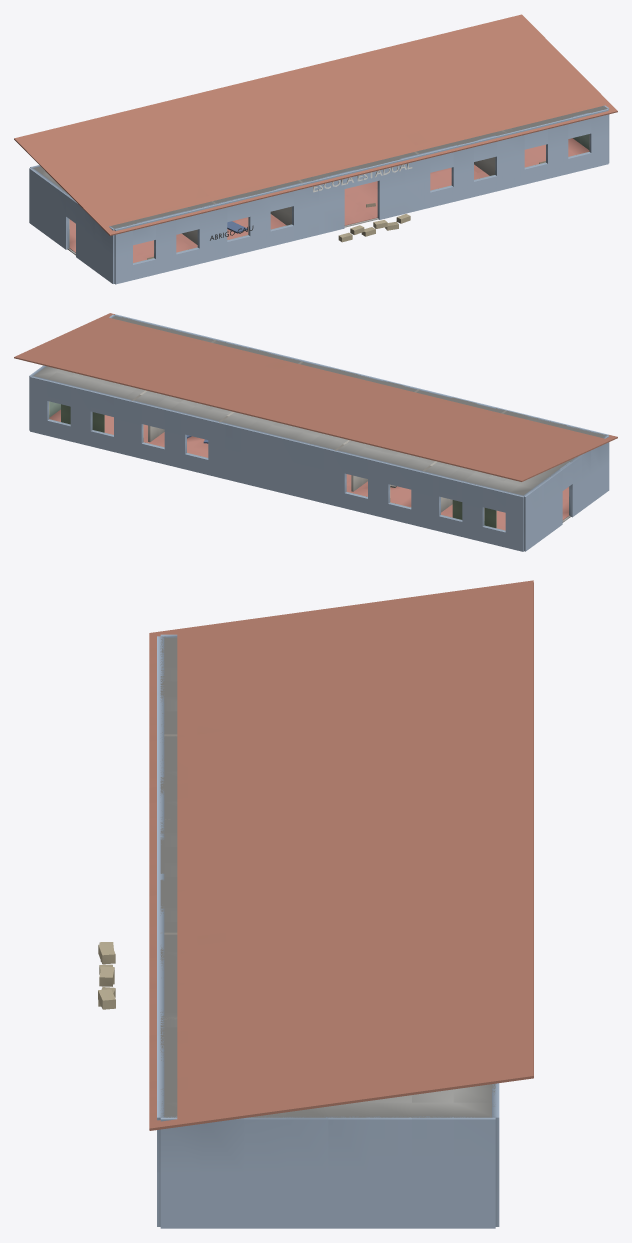
File: escola.glb
3 renders of one model, top to bottom at view 1: azimuth 30°, elevation 25°; view 2: azimuth 150°, elevation 25°; view 3: azimuth 270°, elevation 25°, orthographic. The views are drawn at different scales.
Visible parts, largest first — view 1: longe, ext, dentro, detalhe; view 2: longe, ext, dentro, quadro_negro_-17, quadro_negro_10; view 3: longe, ext, detalhe.
Part boxes in pixels (<box>): longe: <box>14,14,617,235</box>; ext: <box>29,105,609,284</box>; dentro: <box>67,130,589,263</box>; detalhe: <box>210,214,410,242</box>; longe: <box>14,313,617,495</box>; ext: <box>29,314,609,551</box>; dentro: <box>49,339,570,530</box>; quadro_negro_-17: <box>452,500,496,527</box>; quadro_negro_10: <box>61,404,104,432</box>; longe: <box>149,580,533,1130</box>; ext: <box>157,634,499,1228</box>; detalhe: <box>98,942,115,1009</box>.
Size of what is drawn, in the model's own units: 35 by 5.87 by 13.01.
